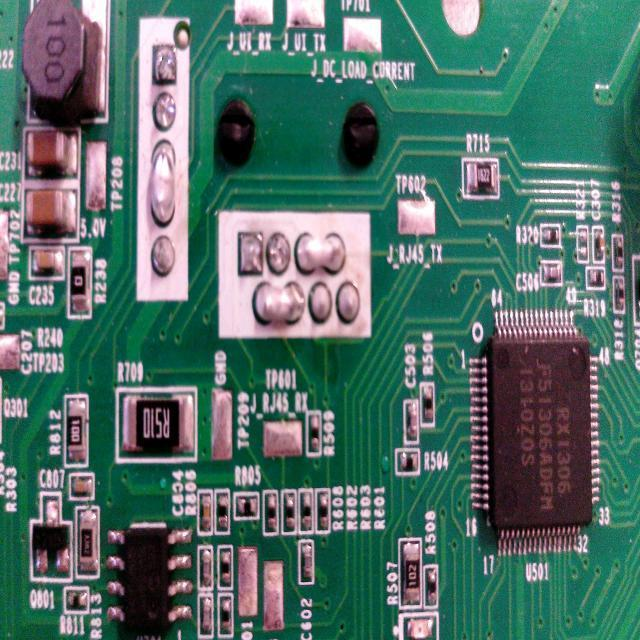Soldering shorted: (248, 281, 308, 333), (294, 228, 348, 276), (148, 138, 177, 227)
